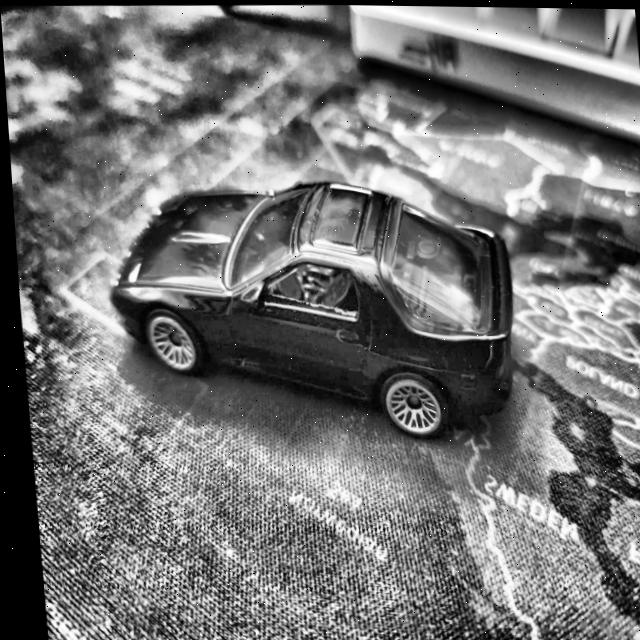car: (99, 172, 519, 443)
